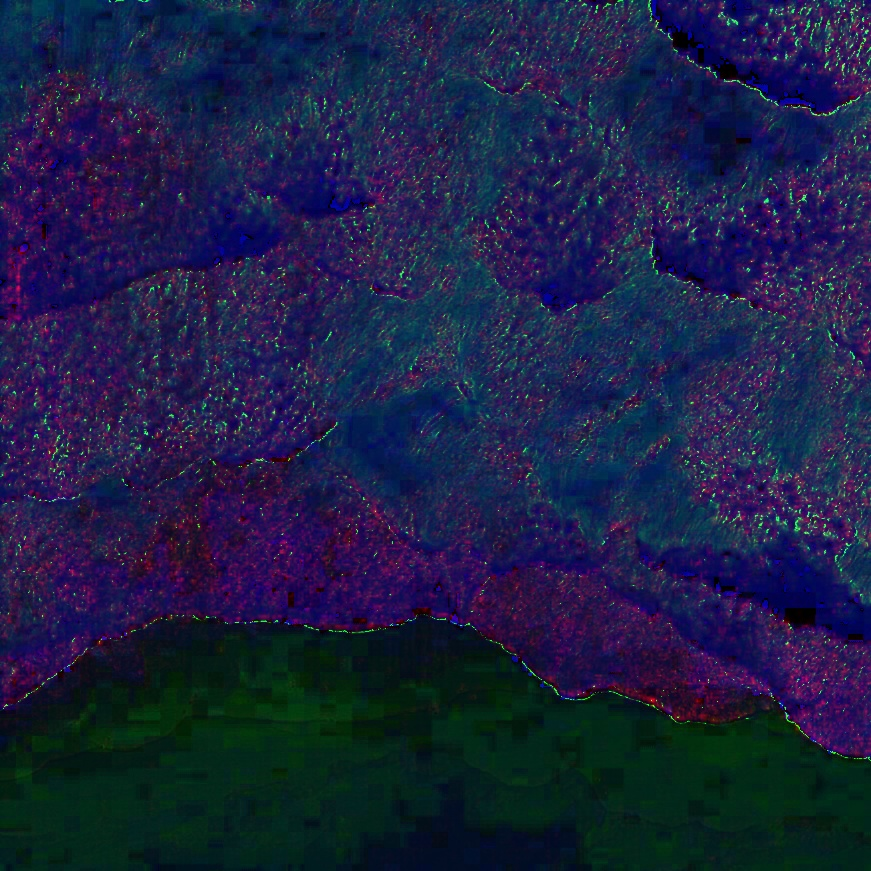rip_current: (301, 76, 546, 495)
